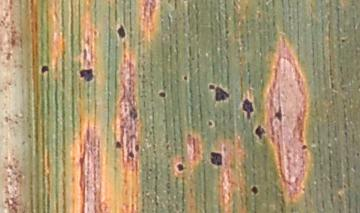tarspot: (241, 99, 254, 120), (215, 86, 230, 102), (210, 150, 222, 167), (80, 68, 94, 82), (254, 125, 266, 140), (116, 23, 126, 39), (274, 107, 282, 122), (129, 107, 138, 120), (40, 65, 49, 75), (176, 162, 185, 172), (250, 186, 258, 196), (115, 141, 122, 150), (133, 143, 140, 152), (158, 91, 167, 97), (129, 151, 135, 159), (182, 73, 188, 81), (208, 83, 216, 89), (301, 143, 307, 150), (340, 37, 346, 44), (207, 121, 213, 126)
